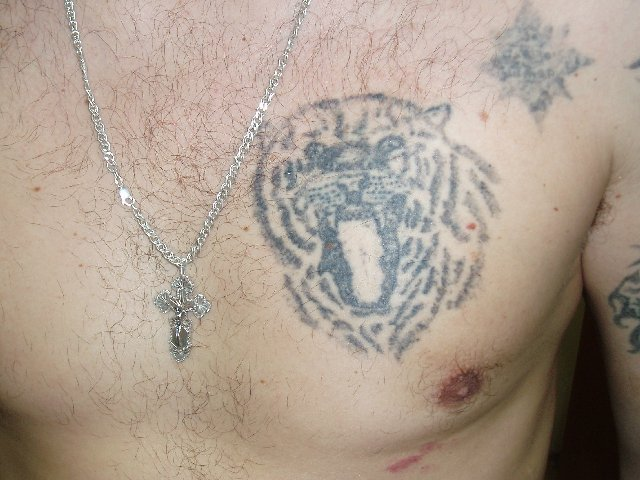tatu5_tigr: (259, 100, 502, 353)
